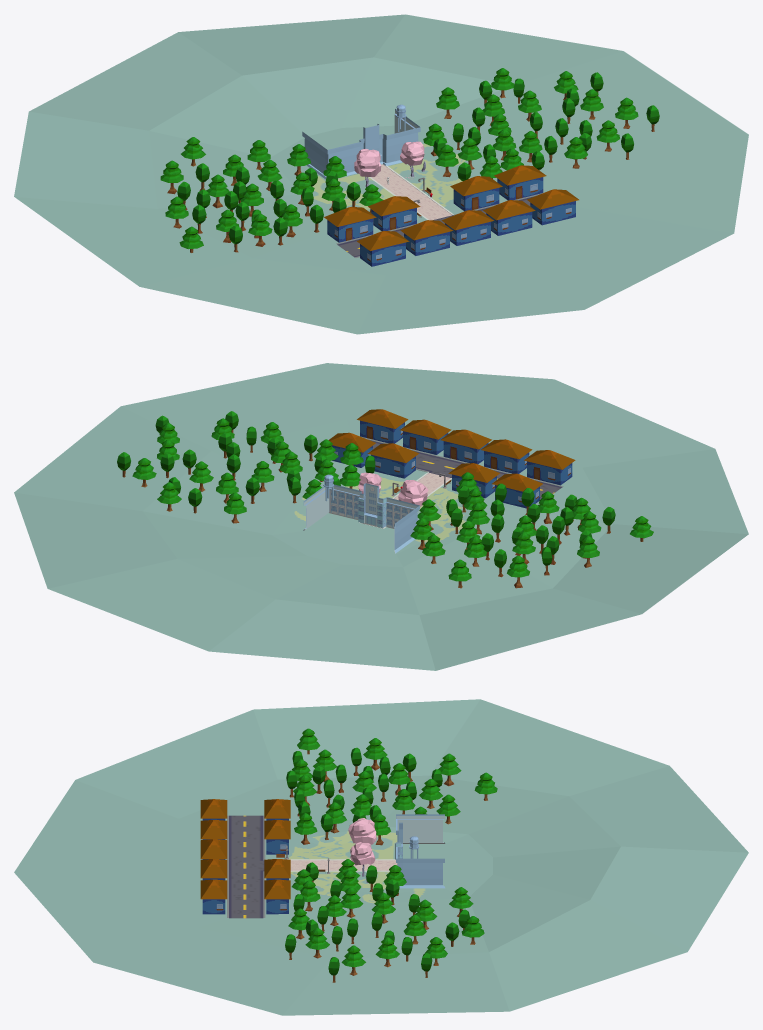
File: WeebSchoolV1.fbx
3 views of the same model, one above another, from view 1: azimuth 30°, elevation 25°; view 2: azimuth 150°, elevation 25°; view 3: azimuth 270°, elevation 25° (orthographic). The views are drawn at different scales.
Parts seen in each view (by area): view 1: Ground, DistantTree8, DistantTree7, DistantTree6, School, DistantTree5, DistantTree4, DistantTree2, WalkWay, Cube.002, Cube.004, Cube.007 (+11 smaller); view 2: Ground, DistantTree8, DistantTree7, School, DistantTree5, DistantTree6, DistantTree2, DistantTree4, Cube.007, Cube.006, Cube.008, Cube.004 (+9 smaller); view 3: Ground, DistantTree7, Cube, DistantTree8, School, DistantTree5, DistantTree6, DistantTree2, DistantTree4, Cube.006, DistantTree3, WalkWay (+10 smaller).
Part boxes in pixels (<box>): Ground: <box>14,14,748,334</box>; DistantTree8: <box>160,137,302,252</box>; DistantTree7: <box>436,68,638,168</box>; DistantTree6: <box>177,163,323,252</box>; School: <box>302,109,420,179</box>; DistantTree5: <box>472,72,659,170</box>; DistantTree4: <box>423,123,523,178</box>; DistantTree2: <box>257,144,383,212</box>; WalkWay: <box>369,164,453,220</box>; Cube.002: <box>324,206,376,242</box>; Cube.004: <box>450,176,502,211</box>; Cube.007: <box>357,231,409,266</box>; Ground: <box>14,363,748,670</box>; DistantTree8: <box>422,491,653,588</box>; DistantTree7: <box>132,418,291,523</box>; School: <box>303,483,419,553</box>; DistantTree5: <box>117,411,317,513</box>; DistantTree6: <box>481,488,615,577</box>; DistantTree2: <box>410,472,489,549</box>; DistantTree4: <box>280,439,363,498</box>; Cube.007: <box>524,450,575,485</box>; Cube.006: <box>357,409,408,443</box>; Cube.008: <box>481,439,532,473</box>; Cube.004: <box>367,443,419,478</box>; Ground: <box>14,699,748,1015</box>; DistantTree7: <box>288,887,484,975</box>; Cube: <box>227,815,265,918</box>; DistantTree8: <box>292,728,497,824</box>; School: <box>395,814,445,888</box>; DistantTree5: <box>285,894,469,982</box>; DistantTree6: <box>286,747,442,816</box>; DistantTree2: <box>294,789,426,845</box>; DistantTree4: <box>291,859,406,917</box>; Cube.006: <box>200,879,227,914</box>; DistantTree3: <box>305,862,399,905</box>; WalkWay: <box>265,859,397,871</box>.
Bounding box in the file's own units: 24926 × 1951 × 25859.
